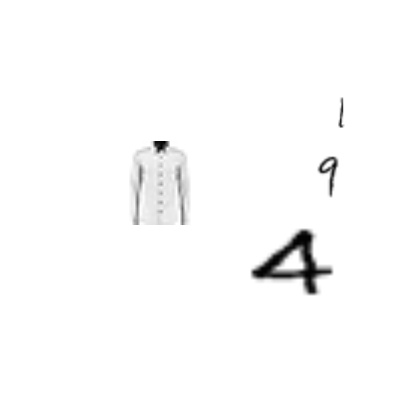1: (319, 93, 361, 135)
4: (236, 206, 348, 318)
9: (300, 143, 356, 199)
Shirt: (118, 141, 202, 225)
